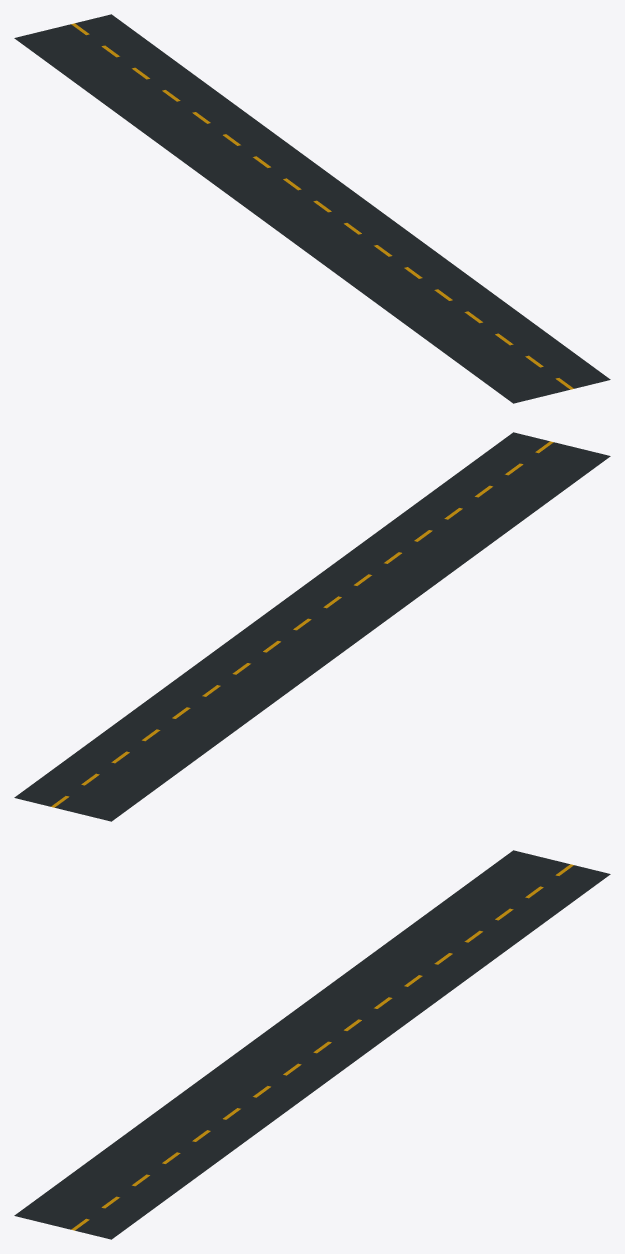
Rendered from road.fbx.
3 renders of one model, top to bottom at view 1: azimuth 30°, elevation 25°; view 2: azimuth 150°, elevation 25°; view 3: azimuth 330°, elevation 25°, orthographic.
Visible parts, largest first — view 1: Cube.361; view 2: Cube.361; view 3: Cube.361.
Part boxes in pixels (box(x1,y1,x2,y2)): Cube.361: box(14, 14, 610, 403); Cube.361: box(14, 432, 610, 821); Cube.361: box(14, 850, 610, 1239).
Size of the model in its own units: 18.43 by 2.66e-05 by 163.
Materials: 1 (1 with a texture image).
